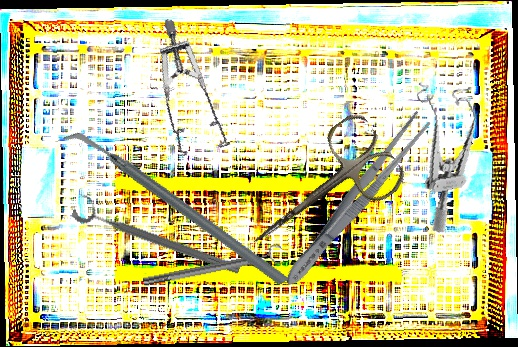Chopper: (61, 75, 290, 343)
Dressing Forceps: (277, 107, 435, 293)
Fixation Ring: (70, 191, 246, 280), (141, 242, 285, 293)
Iris Scissors: (226, 108, 411, 277)
Speculum: (126, 18, 262, 170), (403, 71, 499, 235)
